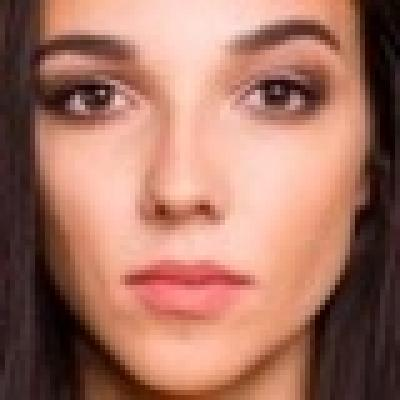netural: (38, 1, 366, 366)
